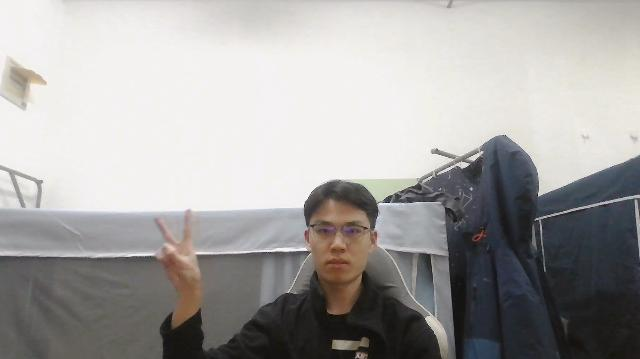two: (149, 208, 202, 296)
